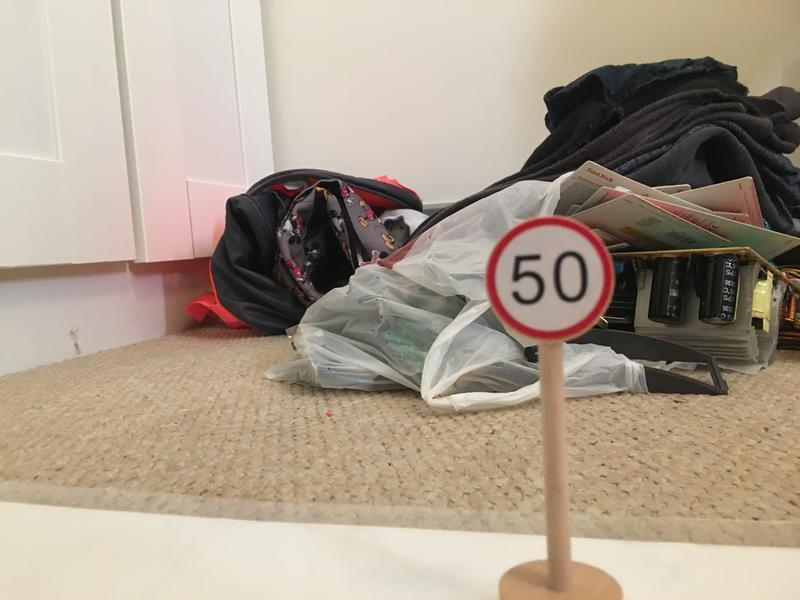Traffic_Sign_50: (485, 216, 614, 342)
